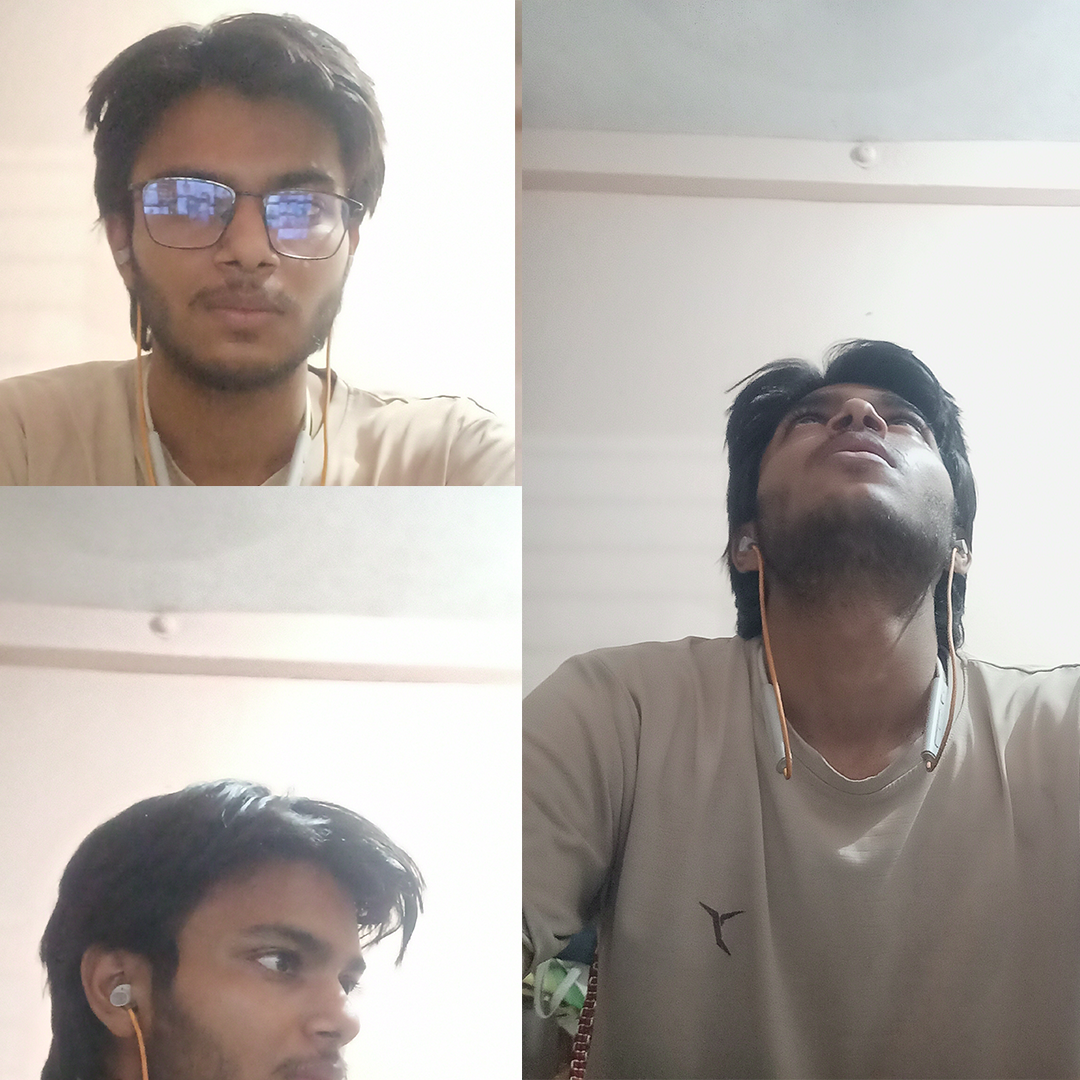Focused: (50, 30, 441, 449)
distracted: (41, 736, 434, 1071), (660, 309, 999, 673)
